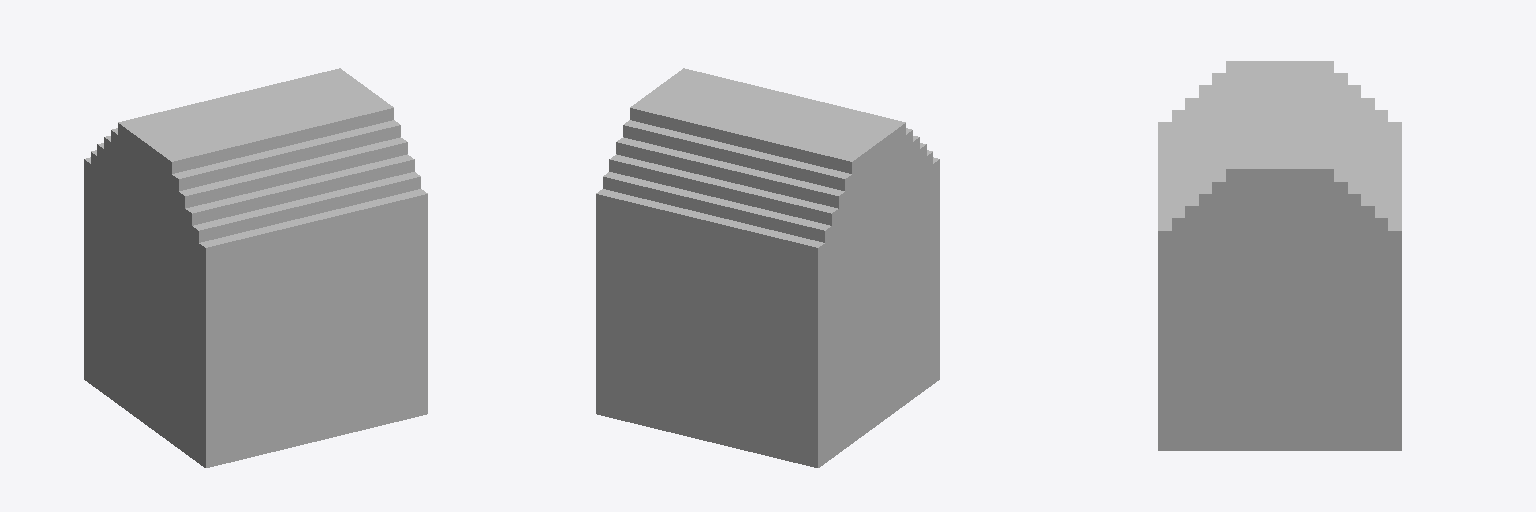
Rendered from MailBox.obj.
3 views of the same model, side by side, from view 1: azimuth 30°, elevation 25°; view 2: azimuth 150°, elevation 25°; view 3: azimuth 270°, elevation 25° (orthographic).
Visible parts, largest first — view 1: object 1; view 2: object 1; view 3: object 1.
Part boxes in pixels (x1,y1,x2,y2): object 1: (84, 68, 427, 467); object 1: (596, 68, 939, 467); object 1: (1158, 61, 1401, 450).
Size of the model in its own units: 1.9 by 2.3 by 1.8.